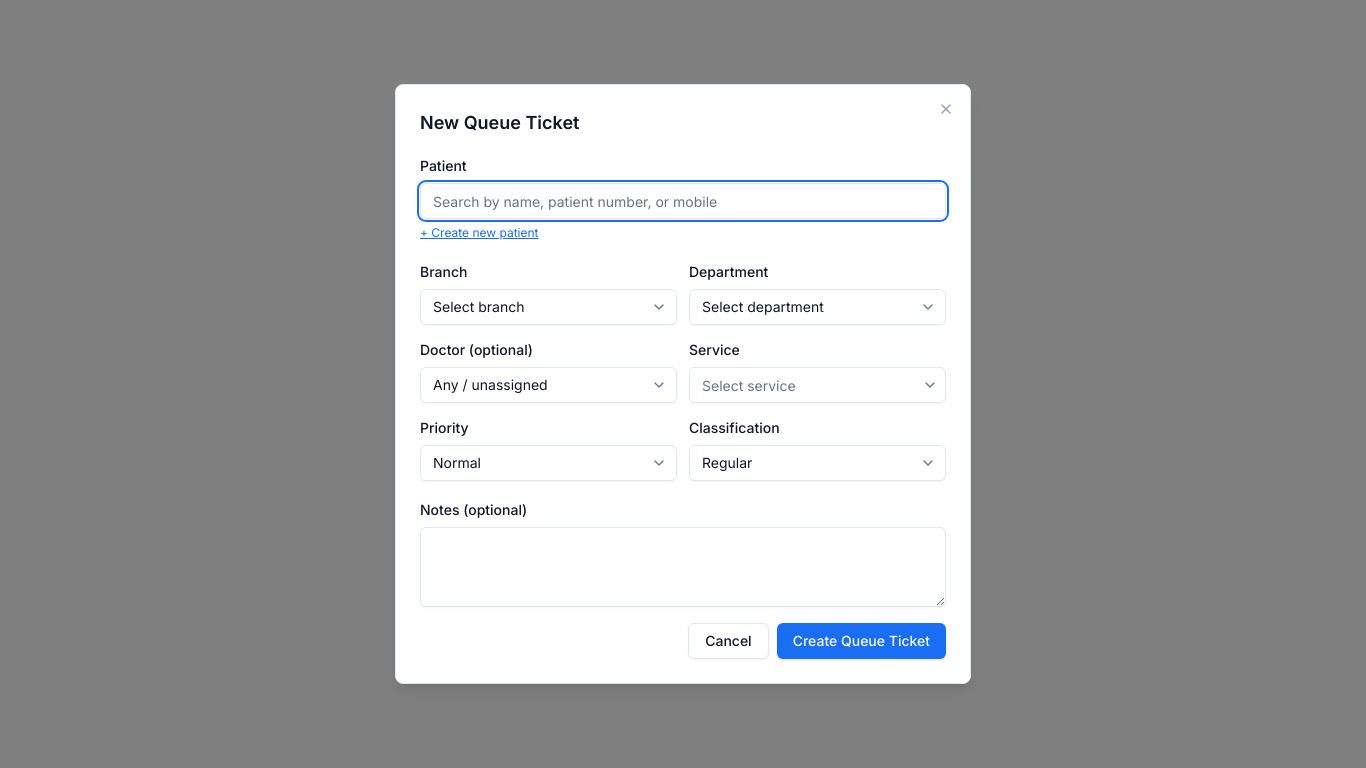
NewQueueDialog › Multiple Laboratory Services in One Queue Transaction › 6: Proceed to Payment stays disabled until at least one Laboratory service is selected
Type "Juan" into the field with placeholder "Search by name, patient number, or mobile". click: x=683, y=201
box: [420,183,946,219]
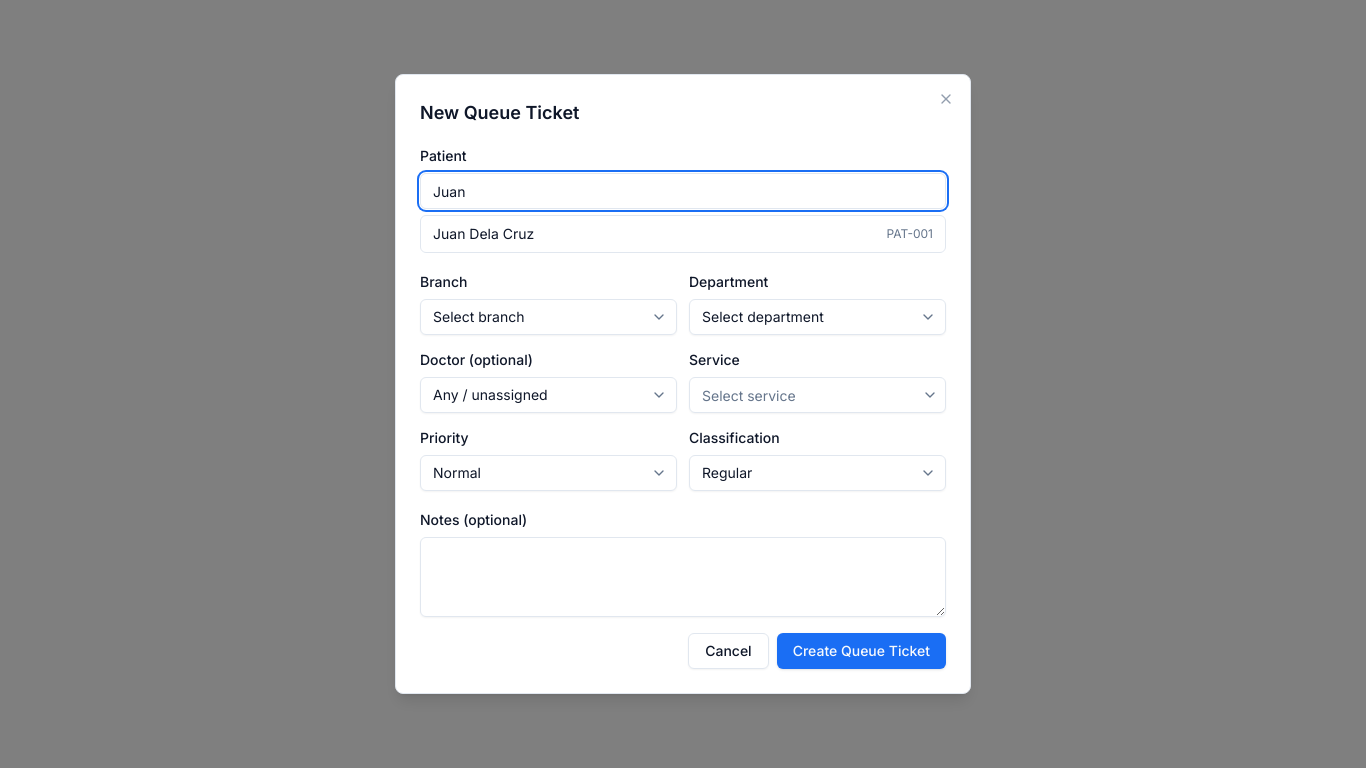
Click the text "Juan Dela Cruz". click: x=484, y=234
box: [433,224,534,244]
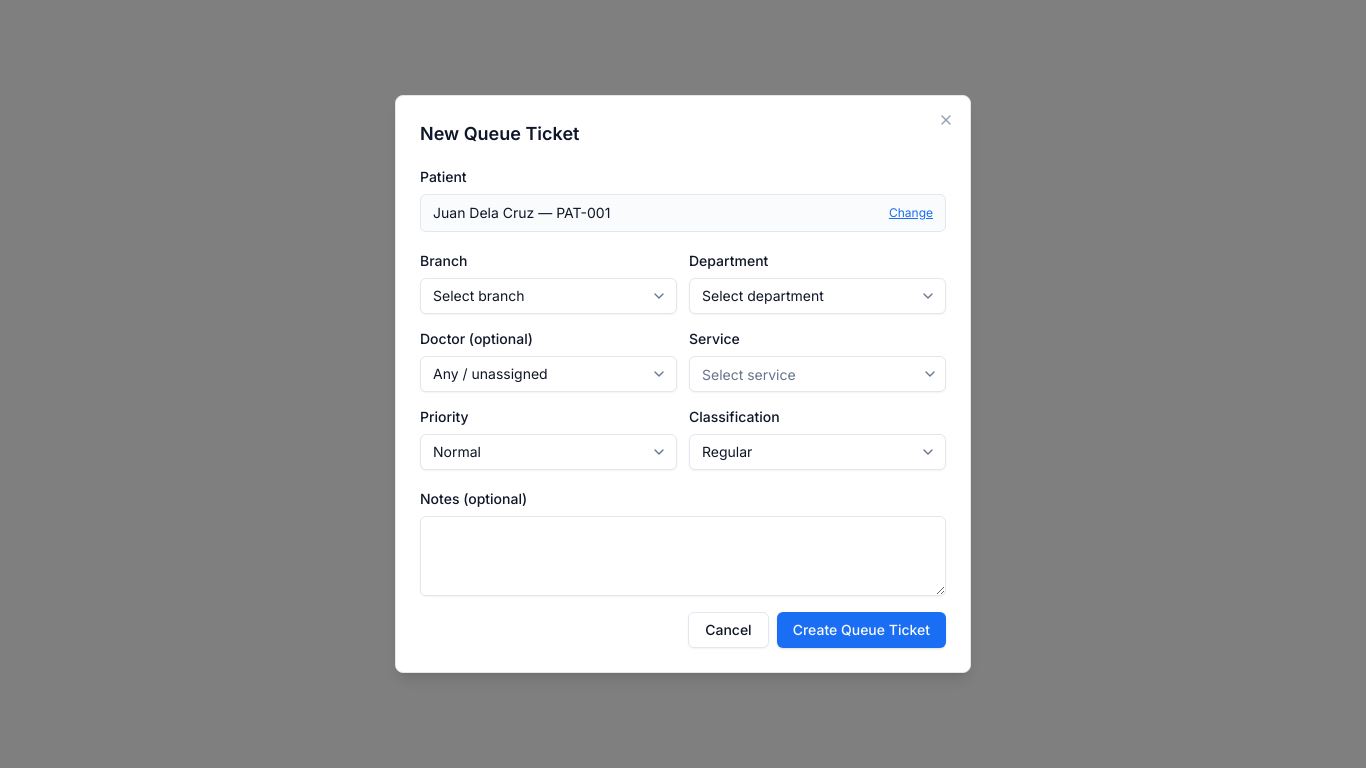
Select "Laboratory" in the dropdown below "Department". click: x=818, y=296
box: [689,278,946,314]
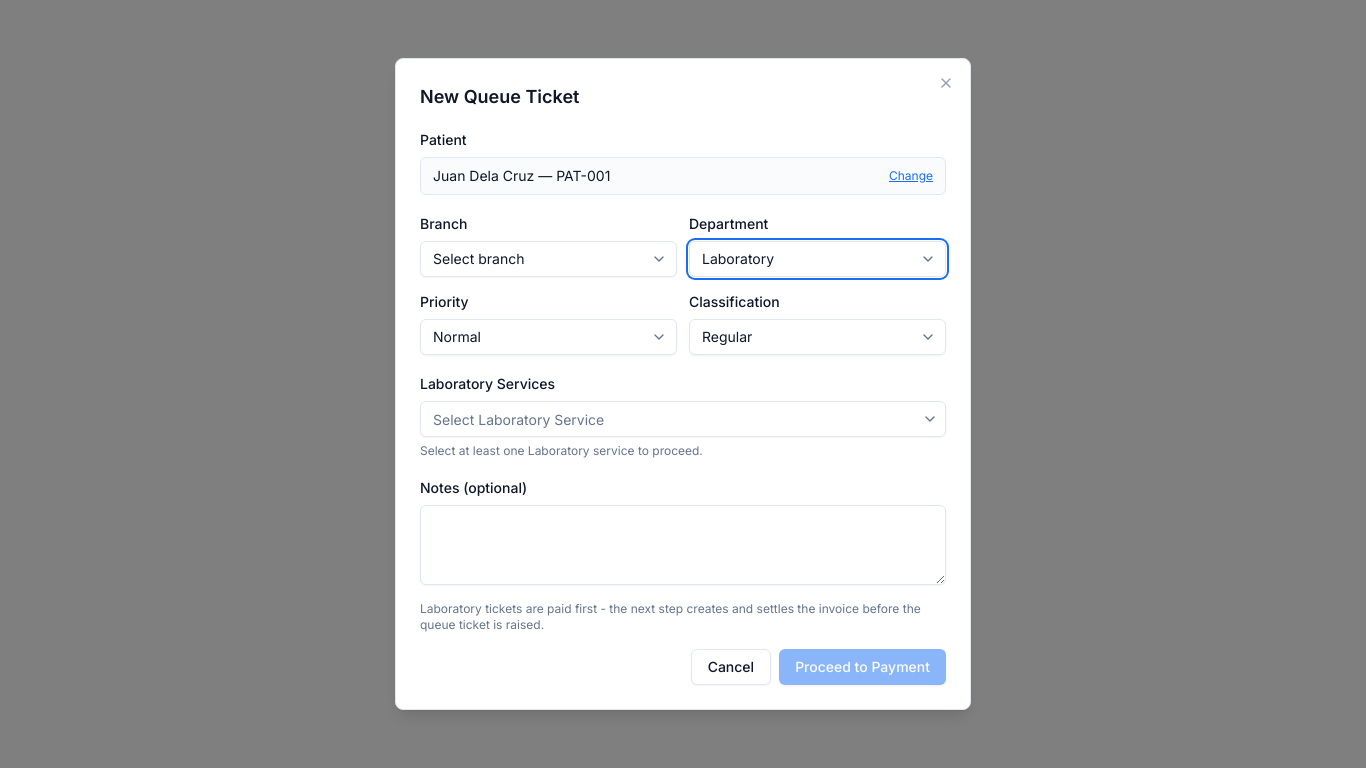
Select "Main Branch" in the dropdown below "Branch". click: x=548, y=259
box: [420,241,677,277]
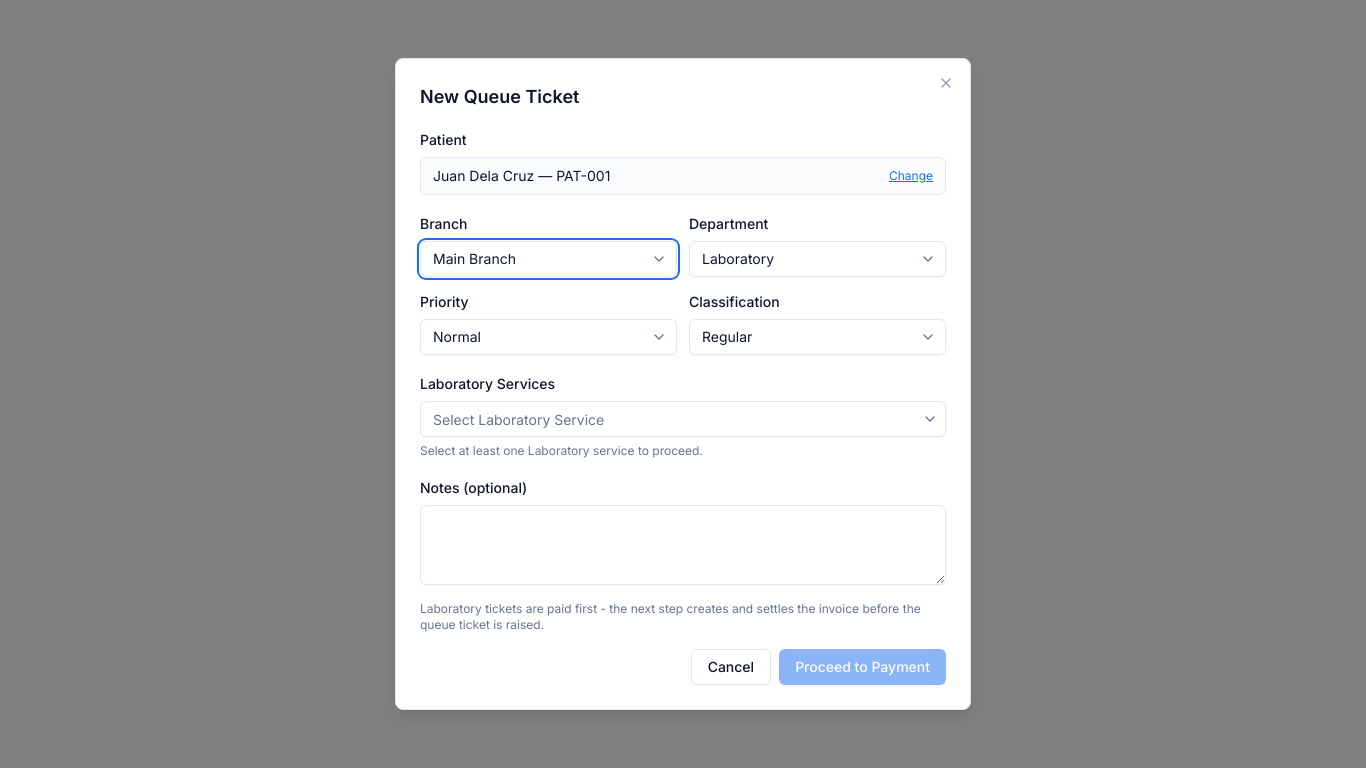
Now the button "Proceed to Payment" is disabled, box [779,649,946,685]
Click the field with placeholder "Select Laboratory Service". click: x=683, y=419
box: [420,401,946,437]
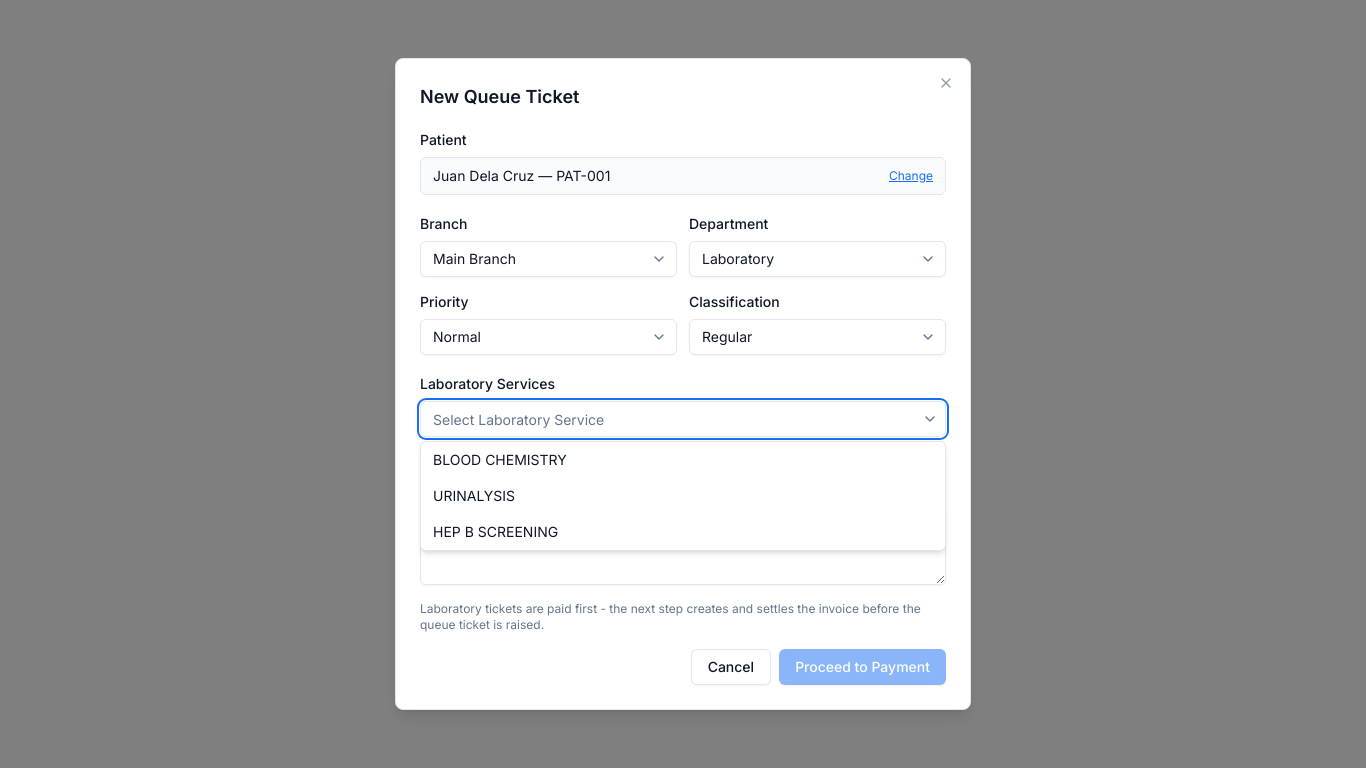
Click the button "BLOOD CHEMISTRY". click: x=500, y=460
box: [421,442,945,478]
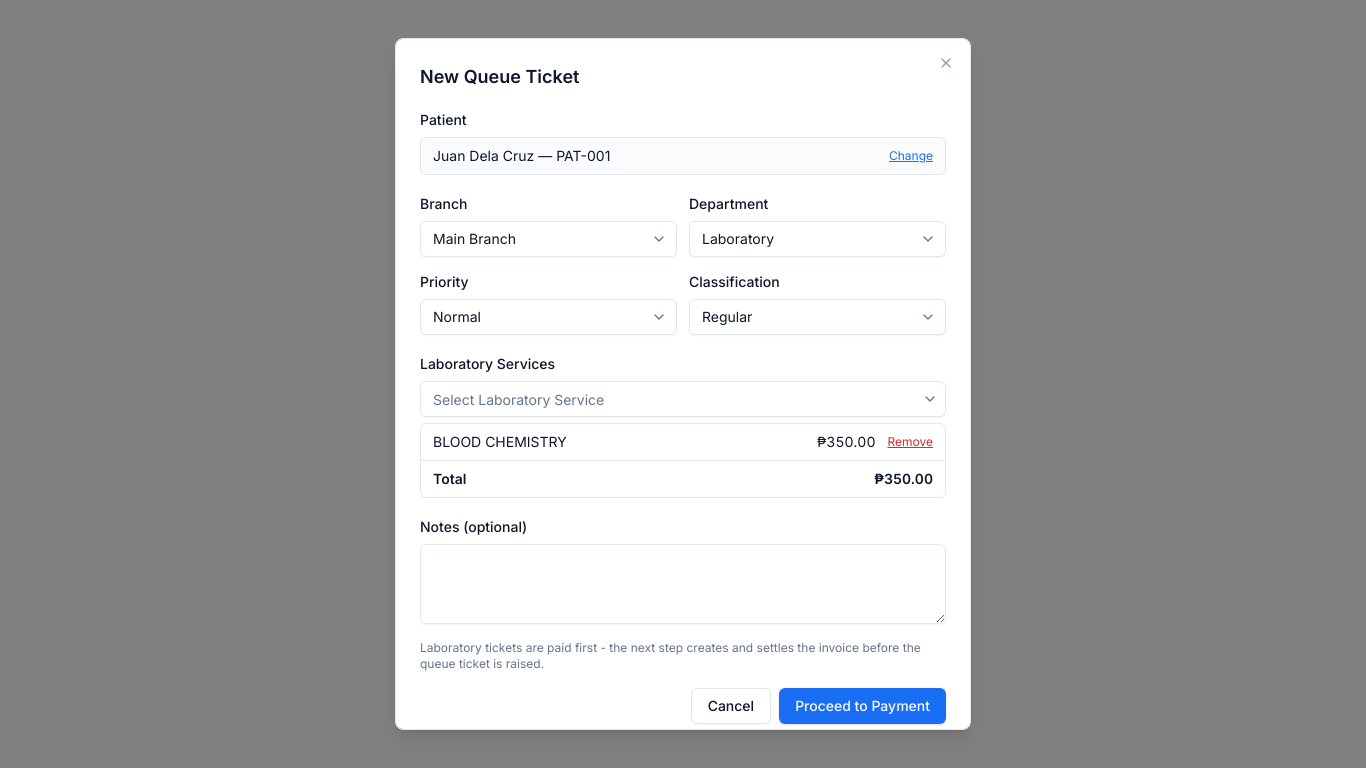
Now the button "Proceed to Payment" is enabled, box [779,688,946,724]
